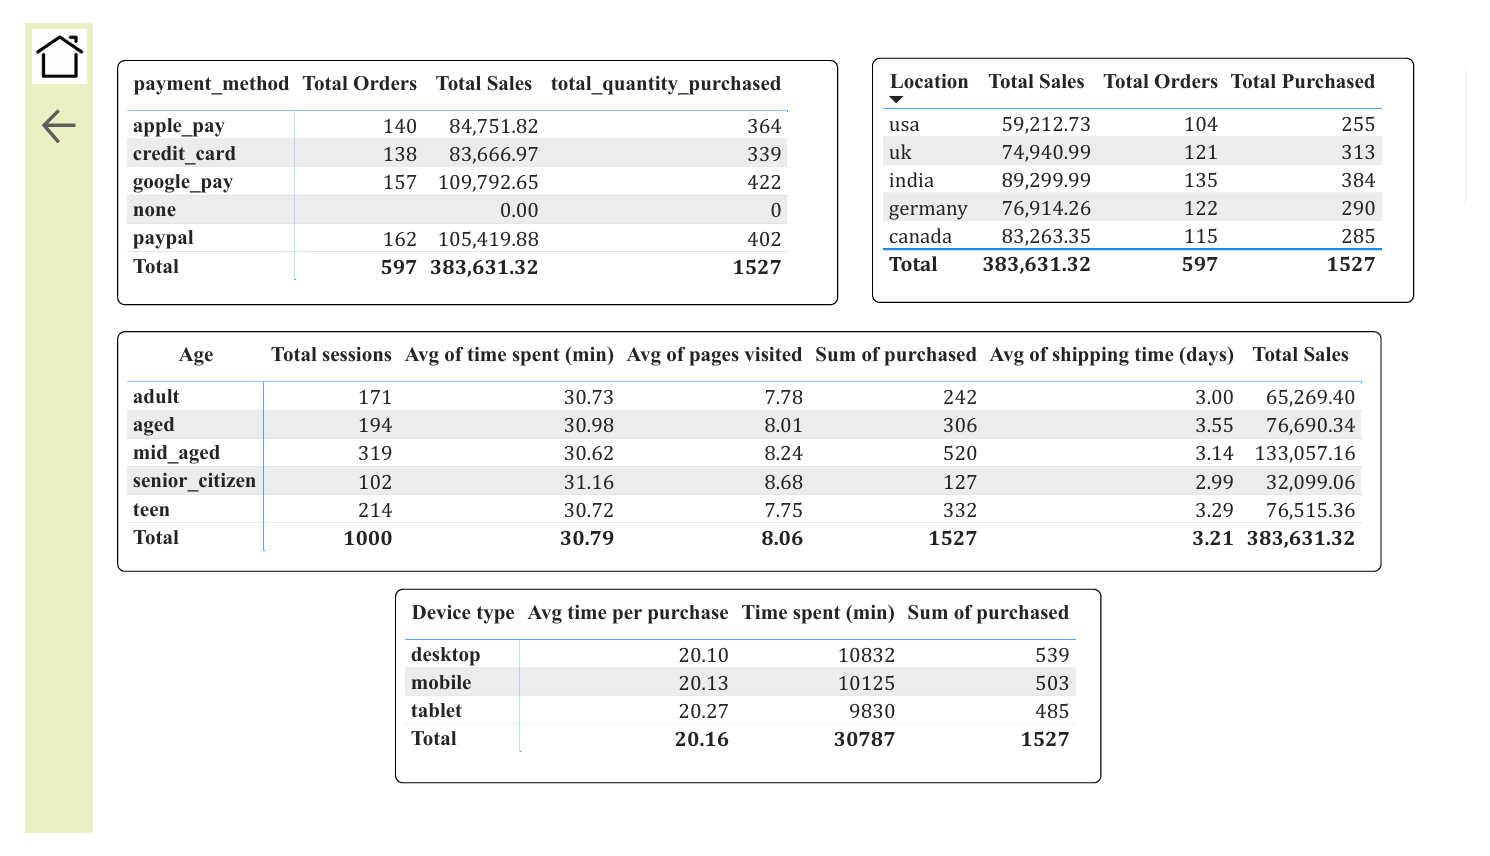

This screenshot's page, from the dashboard's own definition file:
{"tool":"powerbi","page":{"name":"Table view","canvas":[1280,720],"ordinal":2},"visuals":[{"type":"shape","box":[0,0,60.4,720.4],"z":0,"group":"g1"},{"type":"pivotTable","fields":{"Rows":["Sheet1.age (groups)"],"Values":["Sheet1.total_sessions","Avg(Sheet1.time_spent (min))","Avg(Sheet1.pages_visited)","Sum(Sheet1.purchased)","Avg(Sheet1.shipping_time (days))","Sheet1.Total Sales"]},"box":[81,273.1,1123.8,214.1],"z":0},{"type":"actionButton","box":[9.6,71.4,42.5,39.8],"z":1000,"group":"g1"},{"type":"pivotTable","fields":{"Rows":["Sheet1.device_type"],"Values":["Sheet1.AvgTimePerPurchase","Sum(Sheet1.time_spent (min))","Sum(Sheet1.purchased)"]},"box":[328,502.2,628.5,172.9],"z":1000},{"type":"image","box":[0,0,60.4,57.6],"z":2000,"group":"g1"},{"type":"pivotTable","fields":{"Rows":["Sheet1.payment_method"],"Values":["Sheet1.Total Orders","Sheet1.Total Sales","Sheet1.total_quantity_purchased"]},"box":[81,31.6,640.8,218.2],"z":2000},{"type":"tableEx","fields":{"Values":["Sheet1.location","Sheet1.Total Sales","Sheet1.Total Orders","Sheet1.total_quantity_purchased"]},"box":[752,30.2,481.6,218.2],"z":3000},{"type":"group","id":"g1","title":"Group 1","box":[0,0,60.4,720.4],"z":4000}]}

Visuals, with their boxes on the page's 1280x720 design canvas (x1, y1, x2, y2). These are canvas units, not pixel positions in the 1490x856 screenshot, which may show the page scaled, cropped or inside an application window:
shape: (0, 0, 60, 720)
pivotTable - Sheet1.age (groups) x Sheet1.total_sessions: (81, 273, 1205, 487)
actionButton: (10, 71, 52, 111)
pivotTable - Sheet1.device_type x Sheet1.AvgTimePerPurchase: (328, 502, 956, 675)
image: (0, 0, 60, 58)
pivotTable - Sheet1.payment_method x Sheet1.Total Orders: (81, 32, 722, 250)
tableEx - Sheet1.location x Sheet1.Total Sales: (752, 30, 1234, 248)
"Group 1" group: (0, 0, 60, 720)
